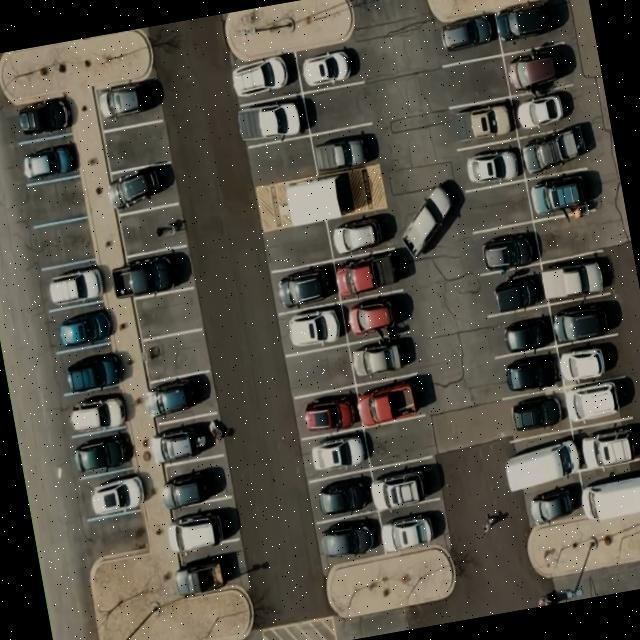space-empty: (532, 204, 606, 263), (302, 78, 374, 136), (363, 414, 438, 469), (435, 54, 509, 109), (131, 285, 202, 341), (261, 218, 333, 273), (139, 328, 209, 384), (29, 216, 99, 272), (114, 202, 186, 256), (460, 180, 532, 233), (286, 345, 356, 397), (102, 120, 172, 172), (249, 134, 317, 187), (21, 174, 89, 227), (84, 512, 146, 557)
space-occupied: (500, 432, 582, 494), (113, 242, 195, 304), (539, 248, 617, 310), (330, 244, 411, 302), (163, 500, 241, 560), (523, 166, 597, 228), (146, 412, 226, 468), (237, 90, 311, 150), (346, 328, 421, 386), (179, 548, 255, 605), (55, 342, 128, 400), (443, 96, 517, 153), (44, 299, 118, 356), (572, 417, 640, 479), (354, 372, 432, 426), (368, 456, 443, 512), (156, 455, 232, 510), (78, 466, 150, 524), (65, 424, 139, 480), (290, 42, 366, 96), (94, 74, 166, 131), (143, 370, 218, 424), (508, 84, 580, 140), (452, 138, 526, 192), (500, 42, 573, 96), (341, 289, 415, 342), (277, 302, 347, 358), (564, 375, 634, 431), (230, 51, 301, 106), (300, 427, 372, 481), (499, 388, 570, 442), (432, 8, 500, 64), (492, 348, 562, 402), (15, 130, 82, 186), (40, 259, 108, 314), (270, 260, 339, 314), (293, 386, 362, 440), (309, 123, 378, 177), (471, 222, 540, 276), (107, 160, 177, 213), (323, 212, 397, 262), (492, 0, 566, 50), (548, 293, 619, 345), (488, 303, 556, 357), (8, 92, 76, 146), (58, 388, 122, 444), (308, 468, 374, 522), (555, 334, 622, 386), (314, 512, 382, 563), (379, 501, 446, 552), (520, 480, 586, 530), (482, 265, 546, 316), (576, 465, 640, 514), (518, 130, 586, 172)
